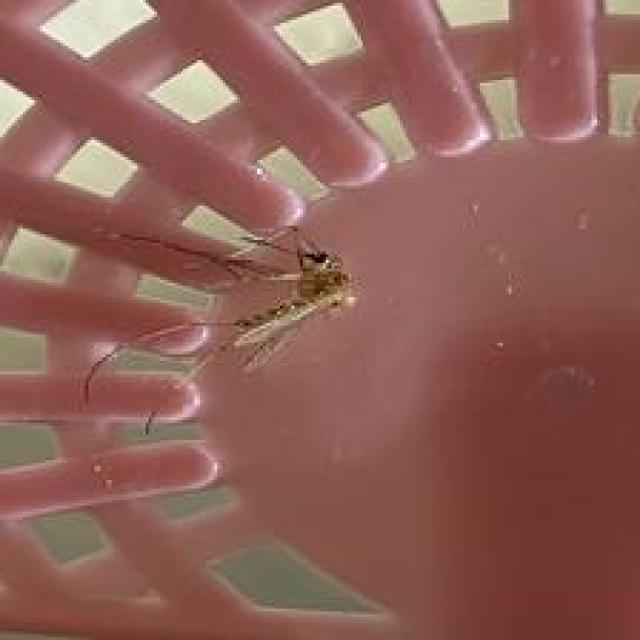Culex: (80, 223, 357, 434)
